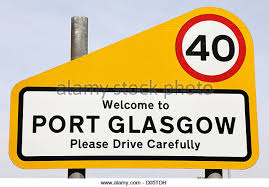Speed_limit_40km: (175, 14, 248, 82)
